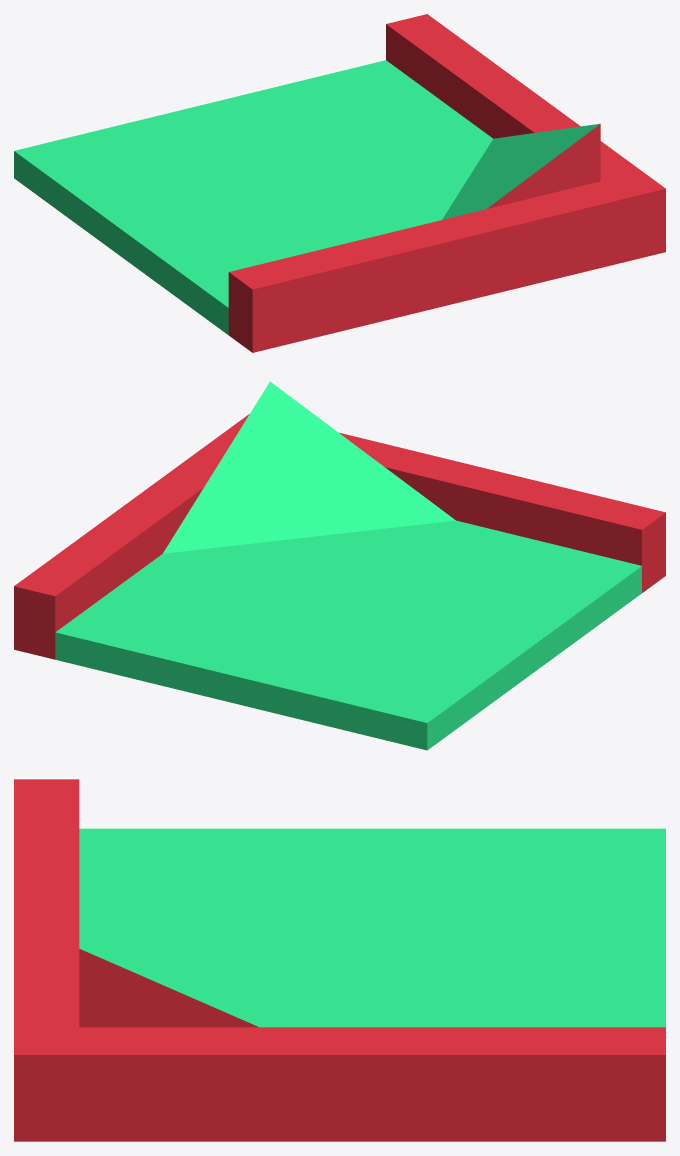
Rendered from hillCorner.fbx.
The picture shows the model from 3 angles, top to bottom: view 1: azimuth 30°, elevation 25°; view 2: azimuth 150°, elevation 25°; view 3: azimuth 270°, elevation 25°; orthographic projection. The views are drawn at different scales.
Visible parts, largest first — view 1: hillCorner; view 2: hillCorner; view 3: hillCorner.
Part boxes in pixels (x1,y1,x2,y2): hillCorner: (14, 14, 665, 352); hillCorner: (14, 381, 665, 750); hillCorner: (14, 779, 665, 1141).
Bounding box in the file's own units: 10 × 2.8 × 10.
